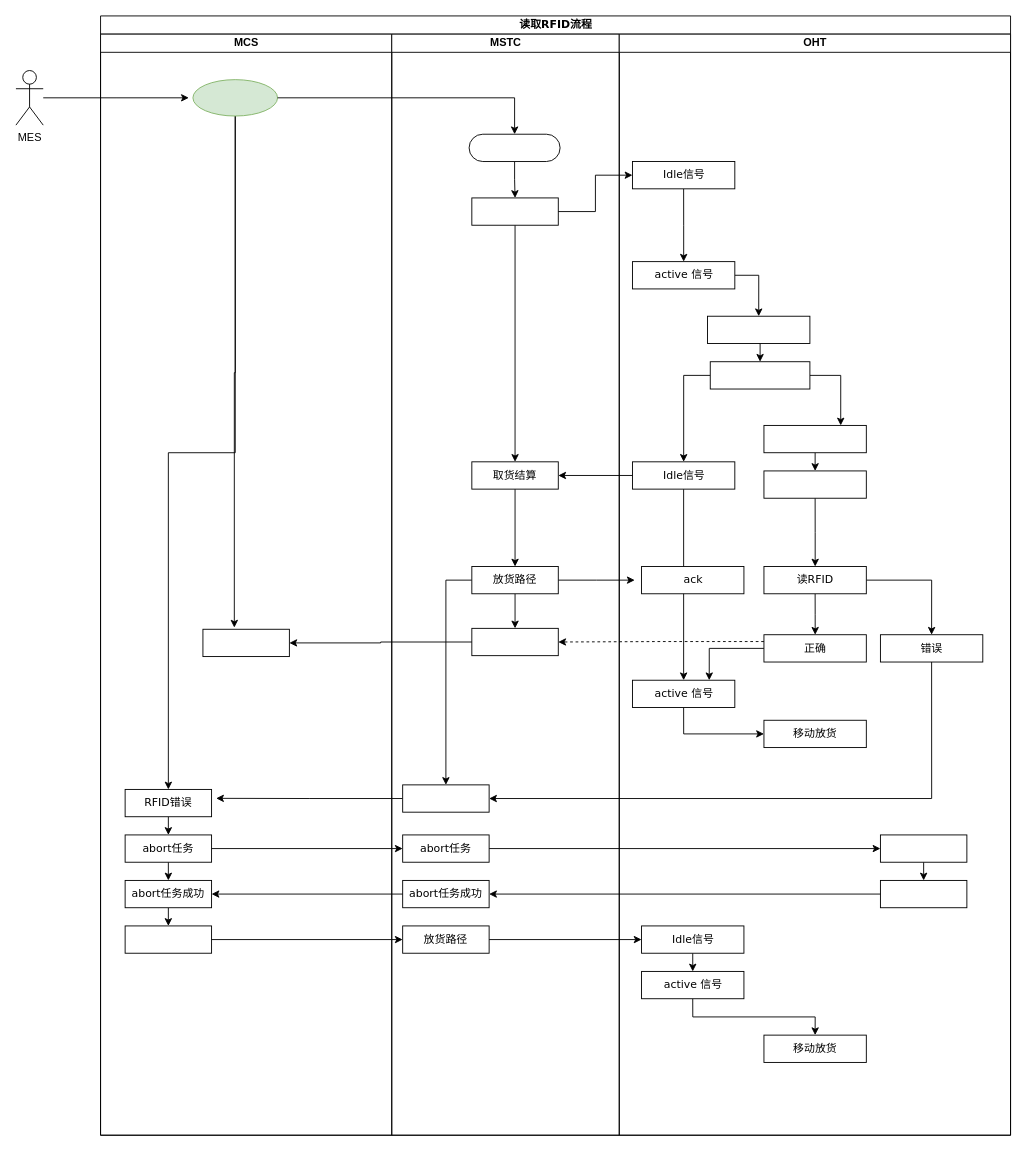
This 1026x1151 diagram has some shape labels left out. Each missing label, with the centre of its shape:
"y 轴收回" belongs at pixel 814 484.
"任务生成" belongs at pixel 235 97.
"取放任务" belongs at pixel 514 147.
"取消移动" belongs at pixel 923 848.
"取消移动成功" belongs at pixel 923 894.
"取货" belongs at pixel 814 439.
"取货路径" belongs at pixel 514 211.
"新放货任务" belongs at pixel 168 939.
"正常返回mes" belongs at pixel 245 642.
"离开点位前RFID 数据正确" belongs at pixel 514 641.
"离开点位前RFID 数据错误" belongs at pixel 445 798.
"移动取货" belongs at pixel 758 329.
"移动结束" belongs at pixel 759 375.
